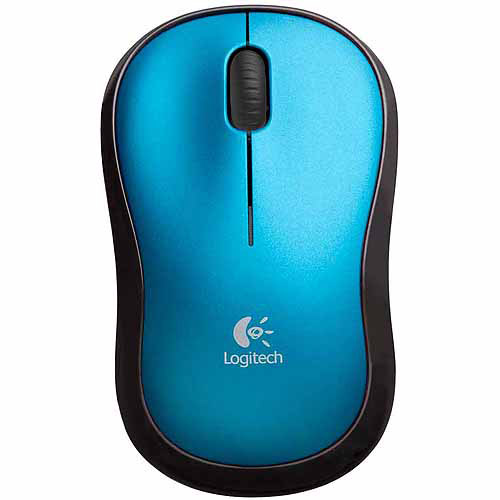logitech-mouse-m185: (100, 1, 412, 500)
